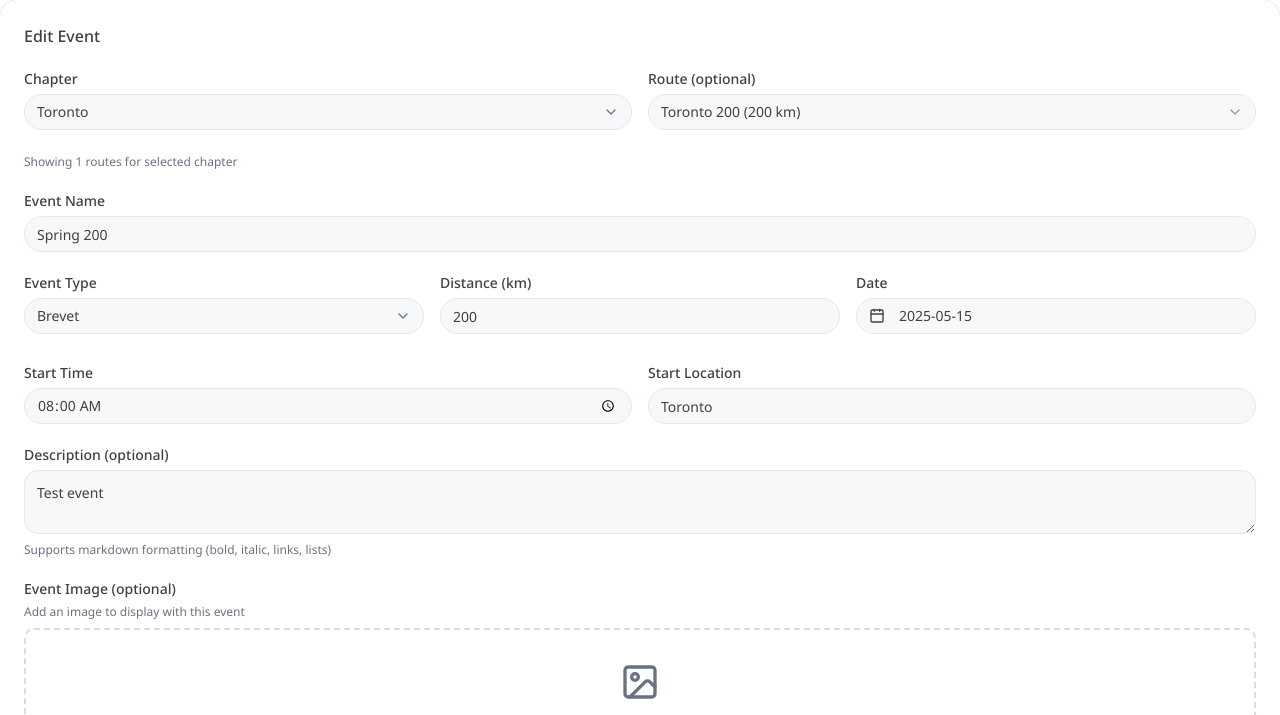
Test case: EventForm › edit mode › opens the date picker on the month of the saved event date
This screenshot has width=1280, height=715.
Click the button with id "eventDate" at (936, 316), box [856,298,1256,334]
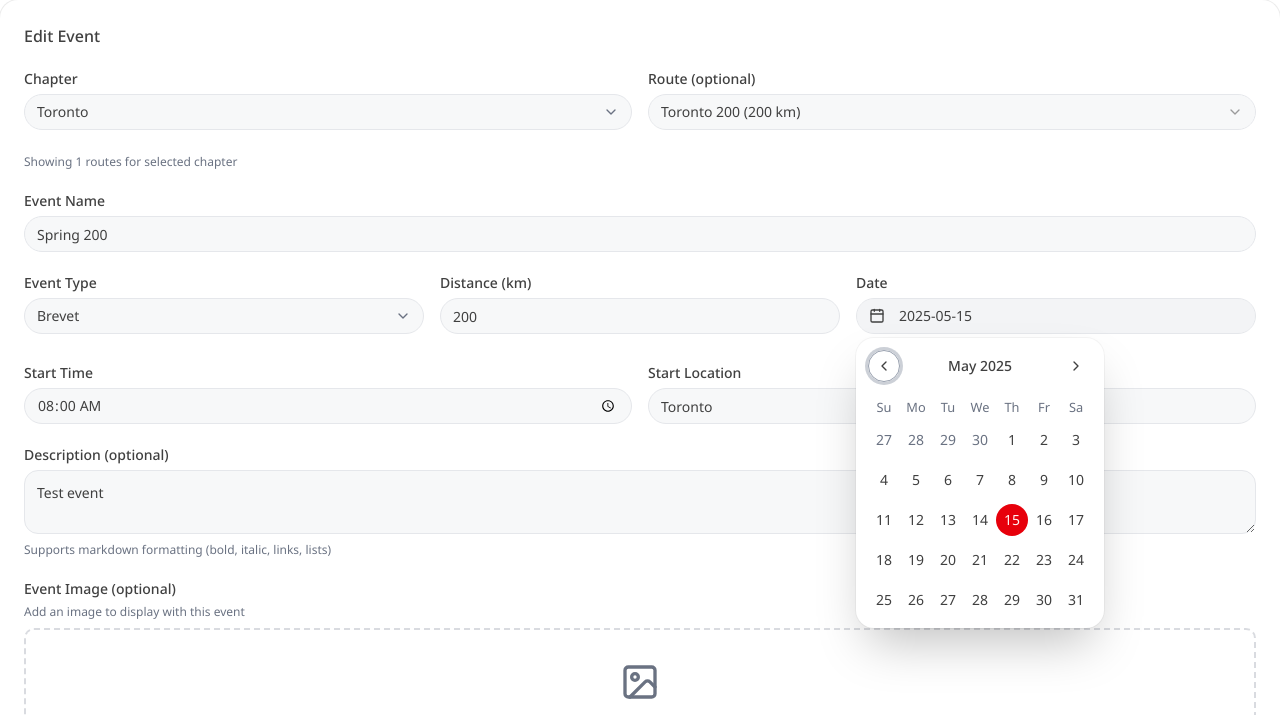
Now the table named "may 2025" is shown, box [868,398,1092,616]
